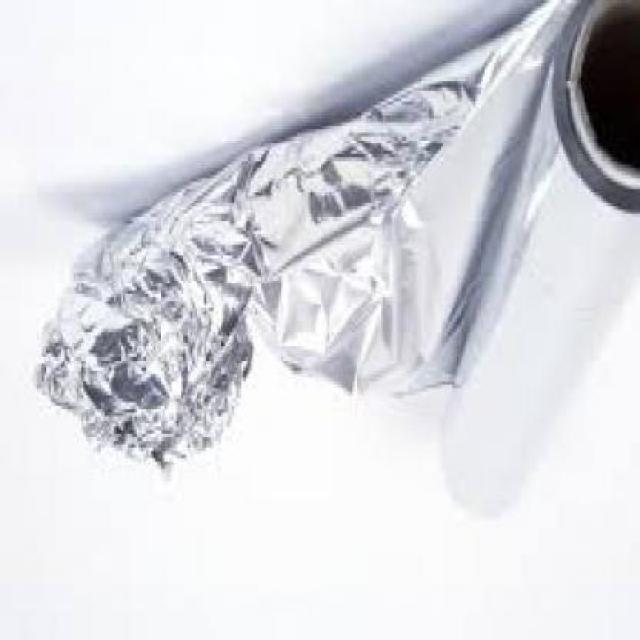METAL: (30, 3, 638, 514)
